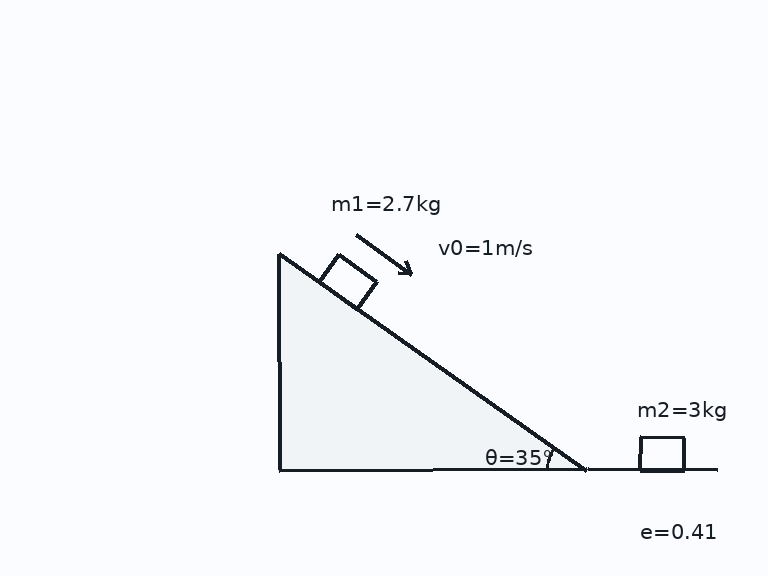block: (317, 252, 378, 311), (638, 436, 686, 472)
ramp: (277, 252, 589, 472)
